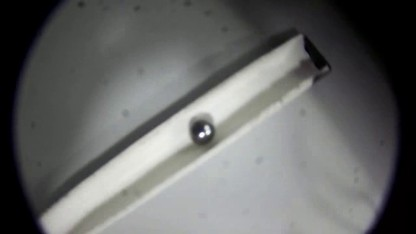gangzhu: (190, 119, 217, 145)
